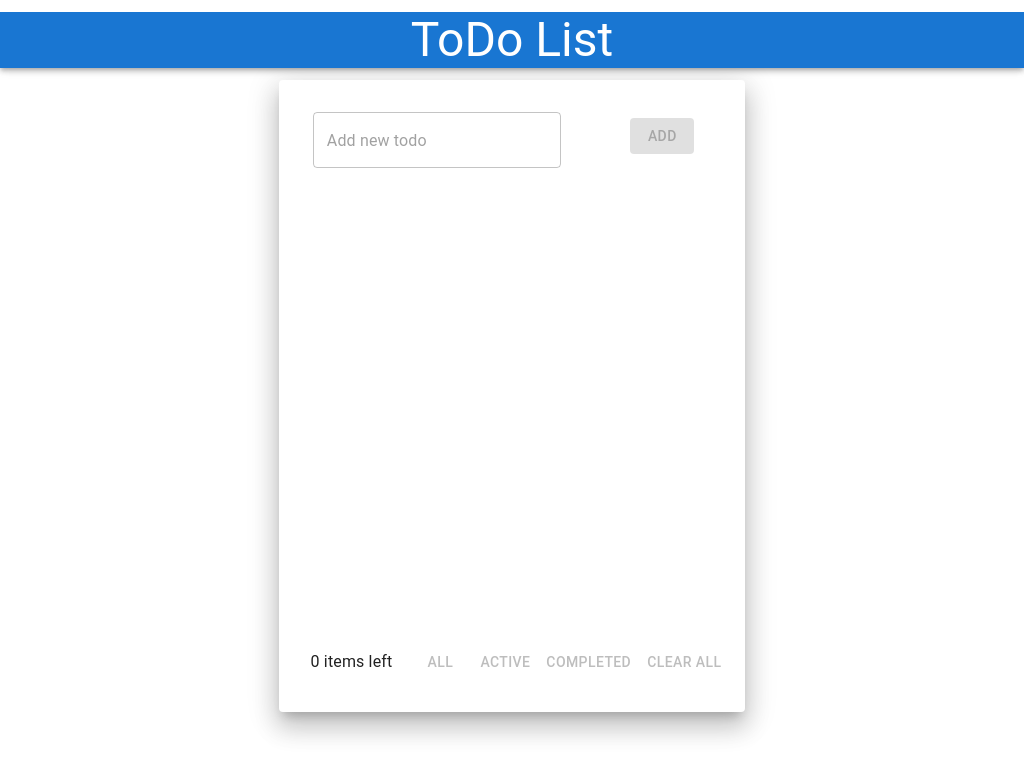
TodoApp › filters active todos
Type "New Todo" into the field with placeholder "Add new todo". click: (437, 140)
box: [313,112,561,168]
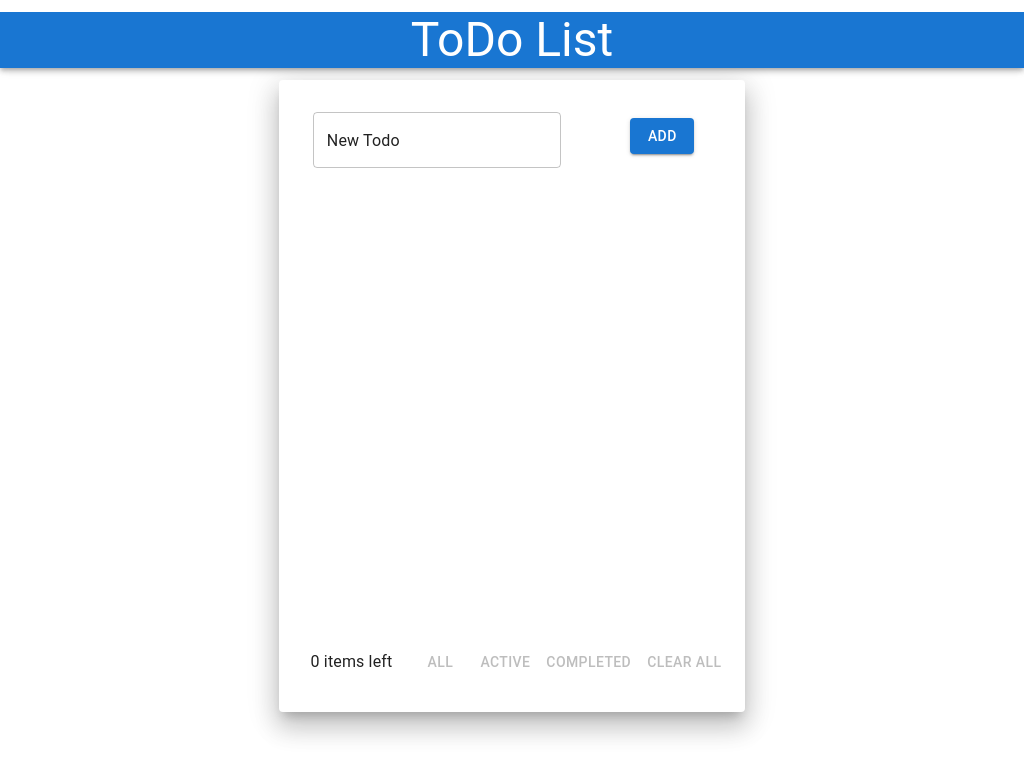
Click the button "Add". click: (662, 136)
box: [630,118,694,154]
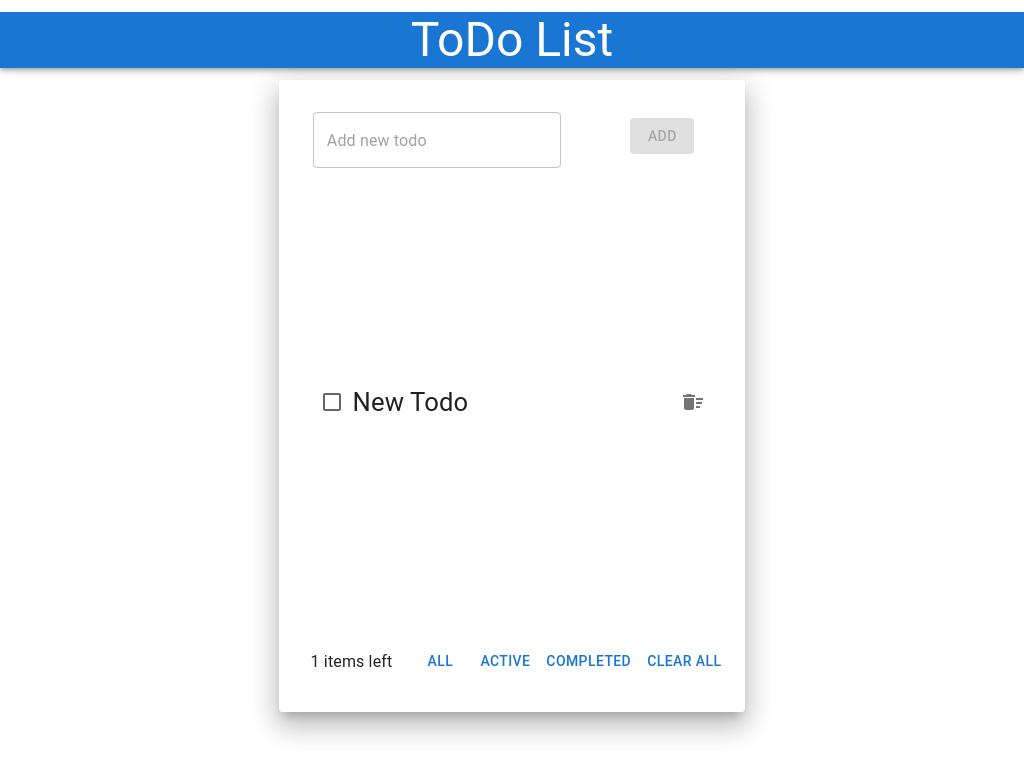
Type "Completed Todo" into the field with placeholder "Add new todo". click: (437, 140)
box: [313,112,561,168]
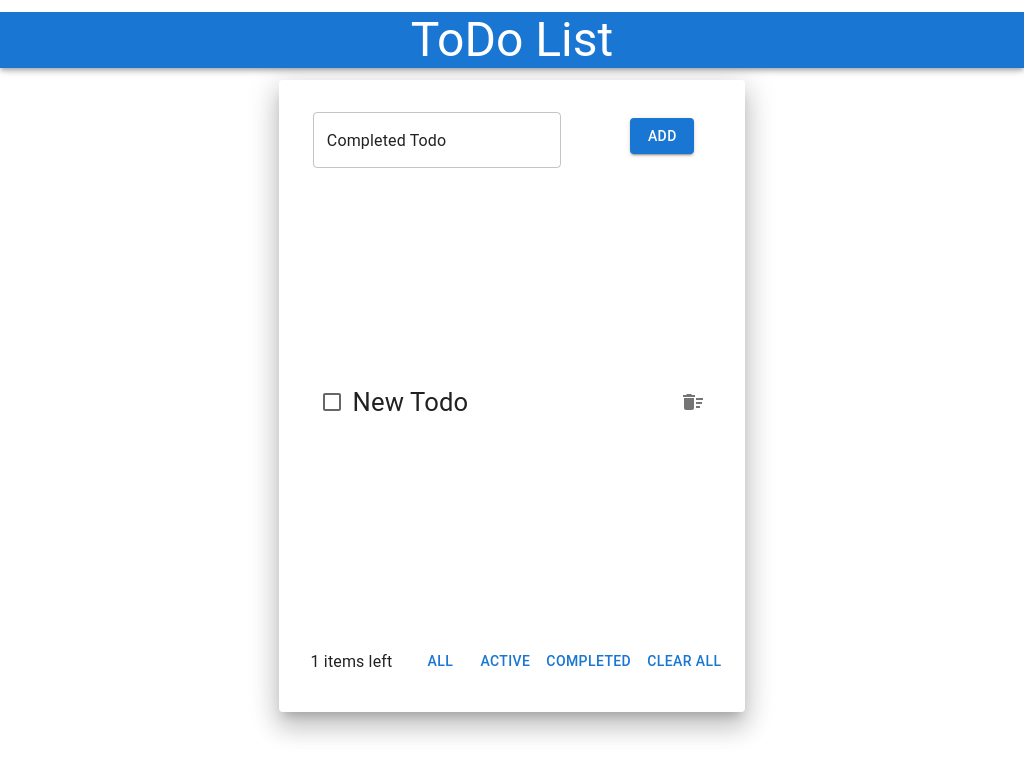
Click the button "Add". click: (662, 136)
box: [630,118,694,154]
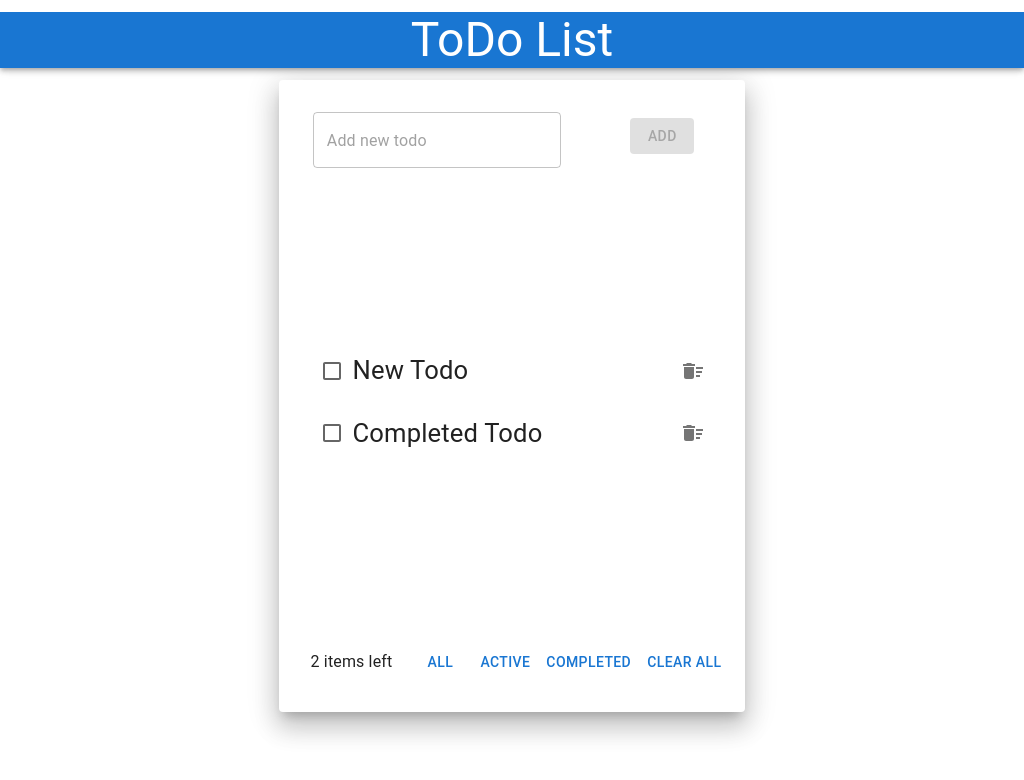
Click the 2nd checkbox. click: (332, 433)
box: [320,421,344,445]
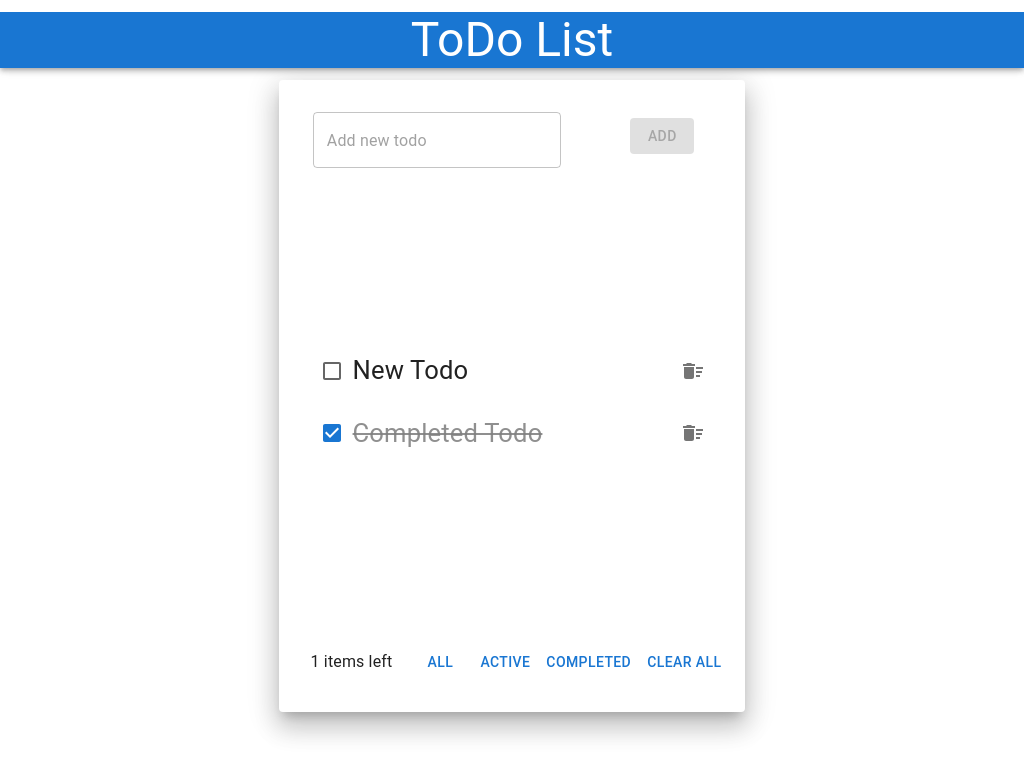
Click the button "Active". click: (505, 662)
box: [472,644,538,680]
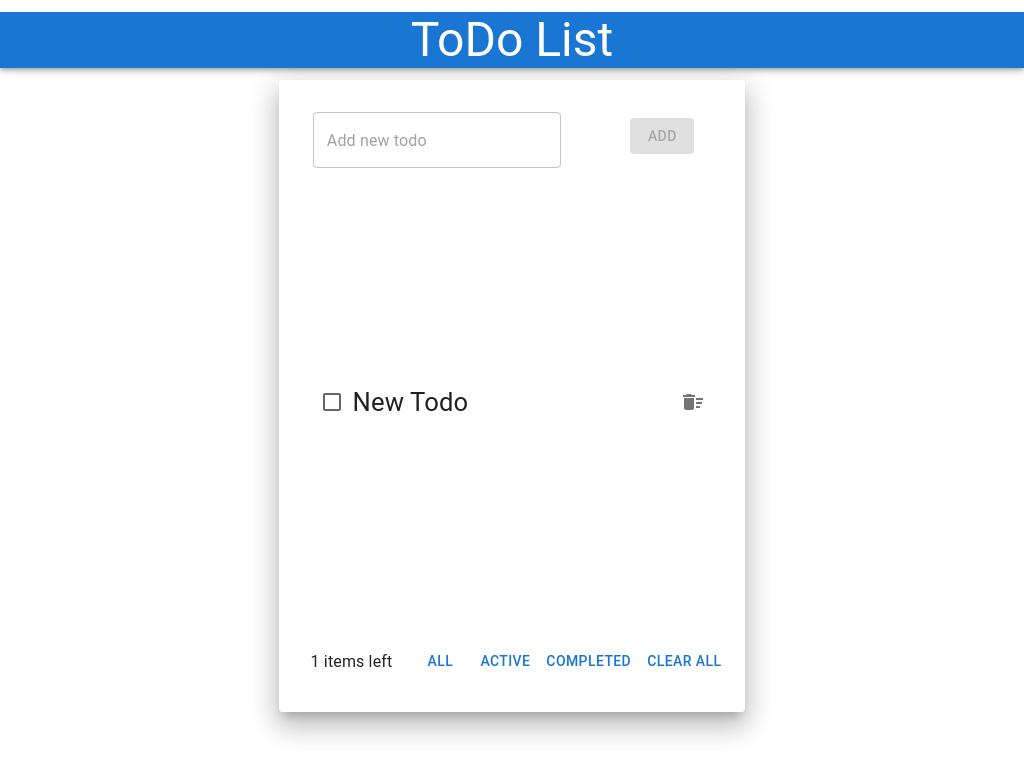
Expected: the text "New Todo" is shown, [353,386,468,416]
Expected: the text "Completed Todo" is gone
